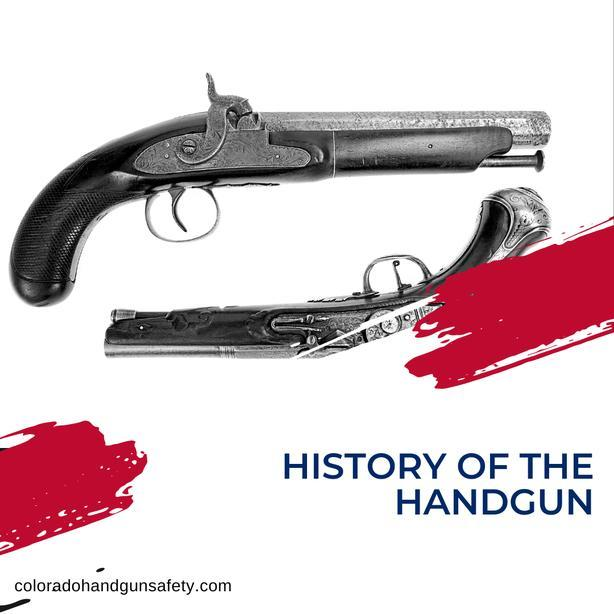Firearm: (11, 71, 561, 332)
